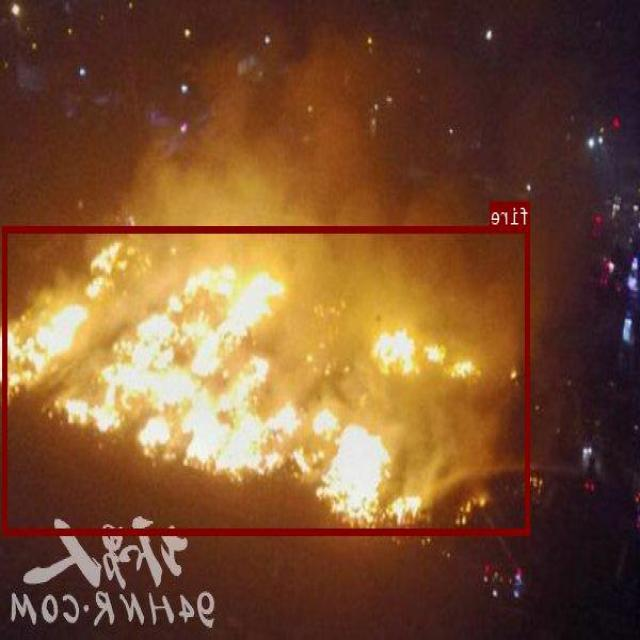fire: (4, 225, 531, 534)
